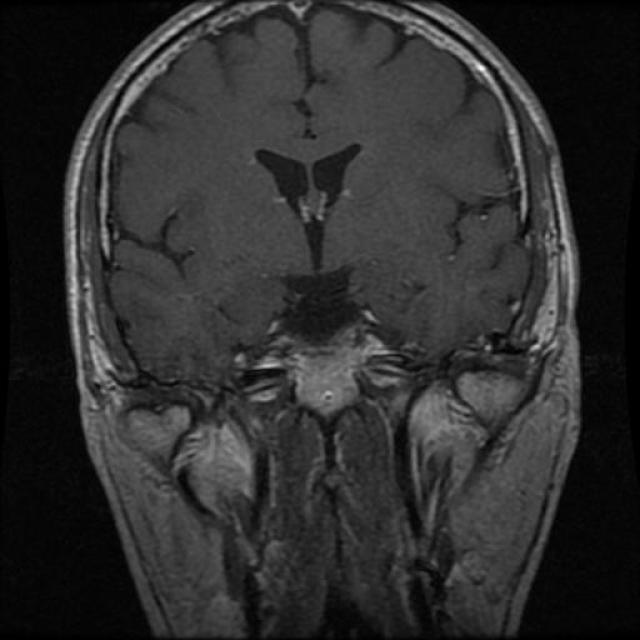brain_tumor: (276, 339, 382, 421)
